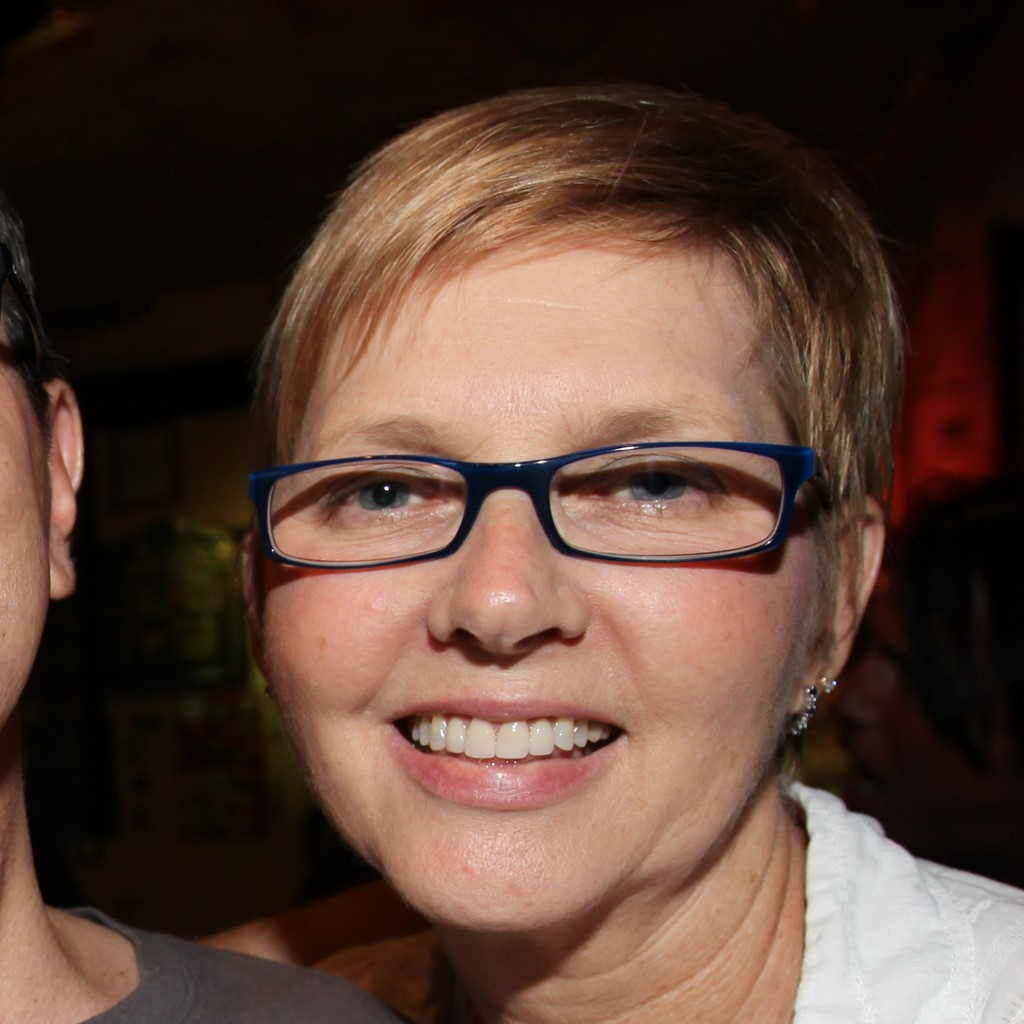sin_mascara: (275, 149, 797, 930)
